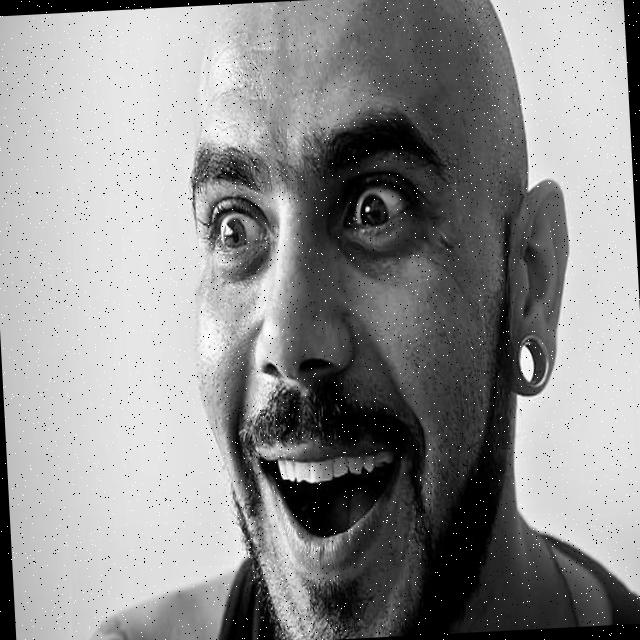Surprised: (176, 0, 522, 640)
